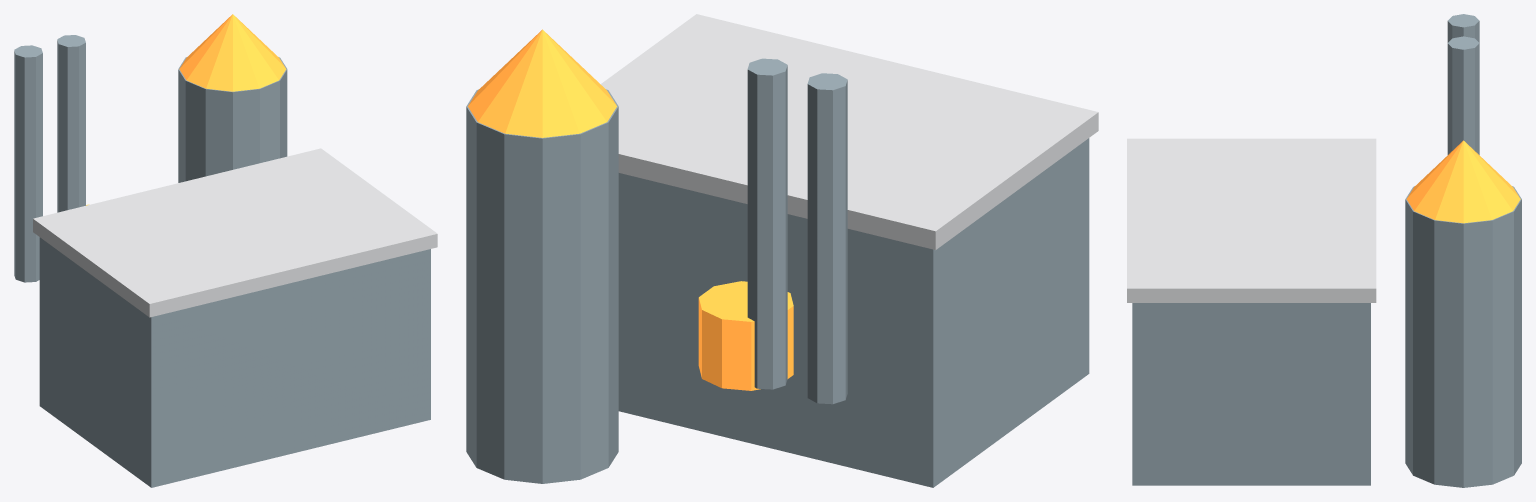
The model's file is steelmill.glb.
3 renders of one model, left to right at view 1: azimuth 30°, elevation 25°; view 2: azimuth 150°, elevation 25°; view 3: azimuth 270°, elevation 25°, orthographic. The views are drawn at different scales.
Visible parts, largest first — view 1: steelmill; view 2: steelmill; view 3: steelmill.
Part boxes in pixels (bbox=[...]): steelmill: bbox=[14, 14, 437, 487]; steelmill: bbox=[466, 14, 1098, 487]; steelmill: bbox=[1127, 14, 1521, 487].
Size of the model in its own units: 1.34 by 1.4 by 1.49.
